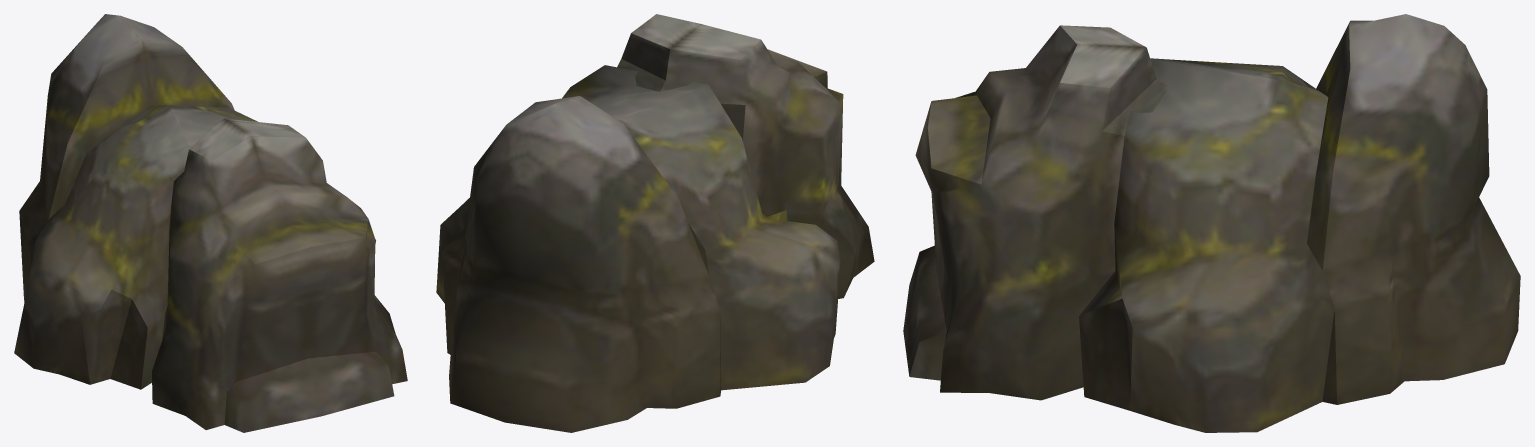
Rendered from rock02.FBX.
3 renders of one model, left to right at view 1: azimuth 30°, elevation 25°; view 2: azimuth 150°, elevation 25°; view 3: azimuth 270°, elevation 25°, orthographic. The views are drawn at different scales.
Parts seen in each view (by area): view 1: M_a1; view 2: M_a1; view 3: M_a1.
Boxes of the visible parts, x1,y1,x2,y2 form: M_a1: [14, 14, 407, 432]; M_a1: [436, 14, 874, 432]; M_a1: [903, 14, 1520, 432].
Bounding box in the file's own units: 204 × 147 × 260.
